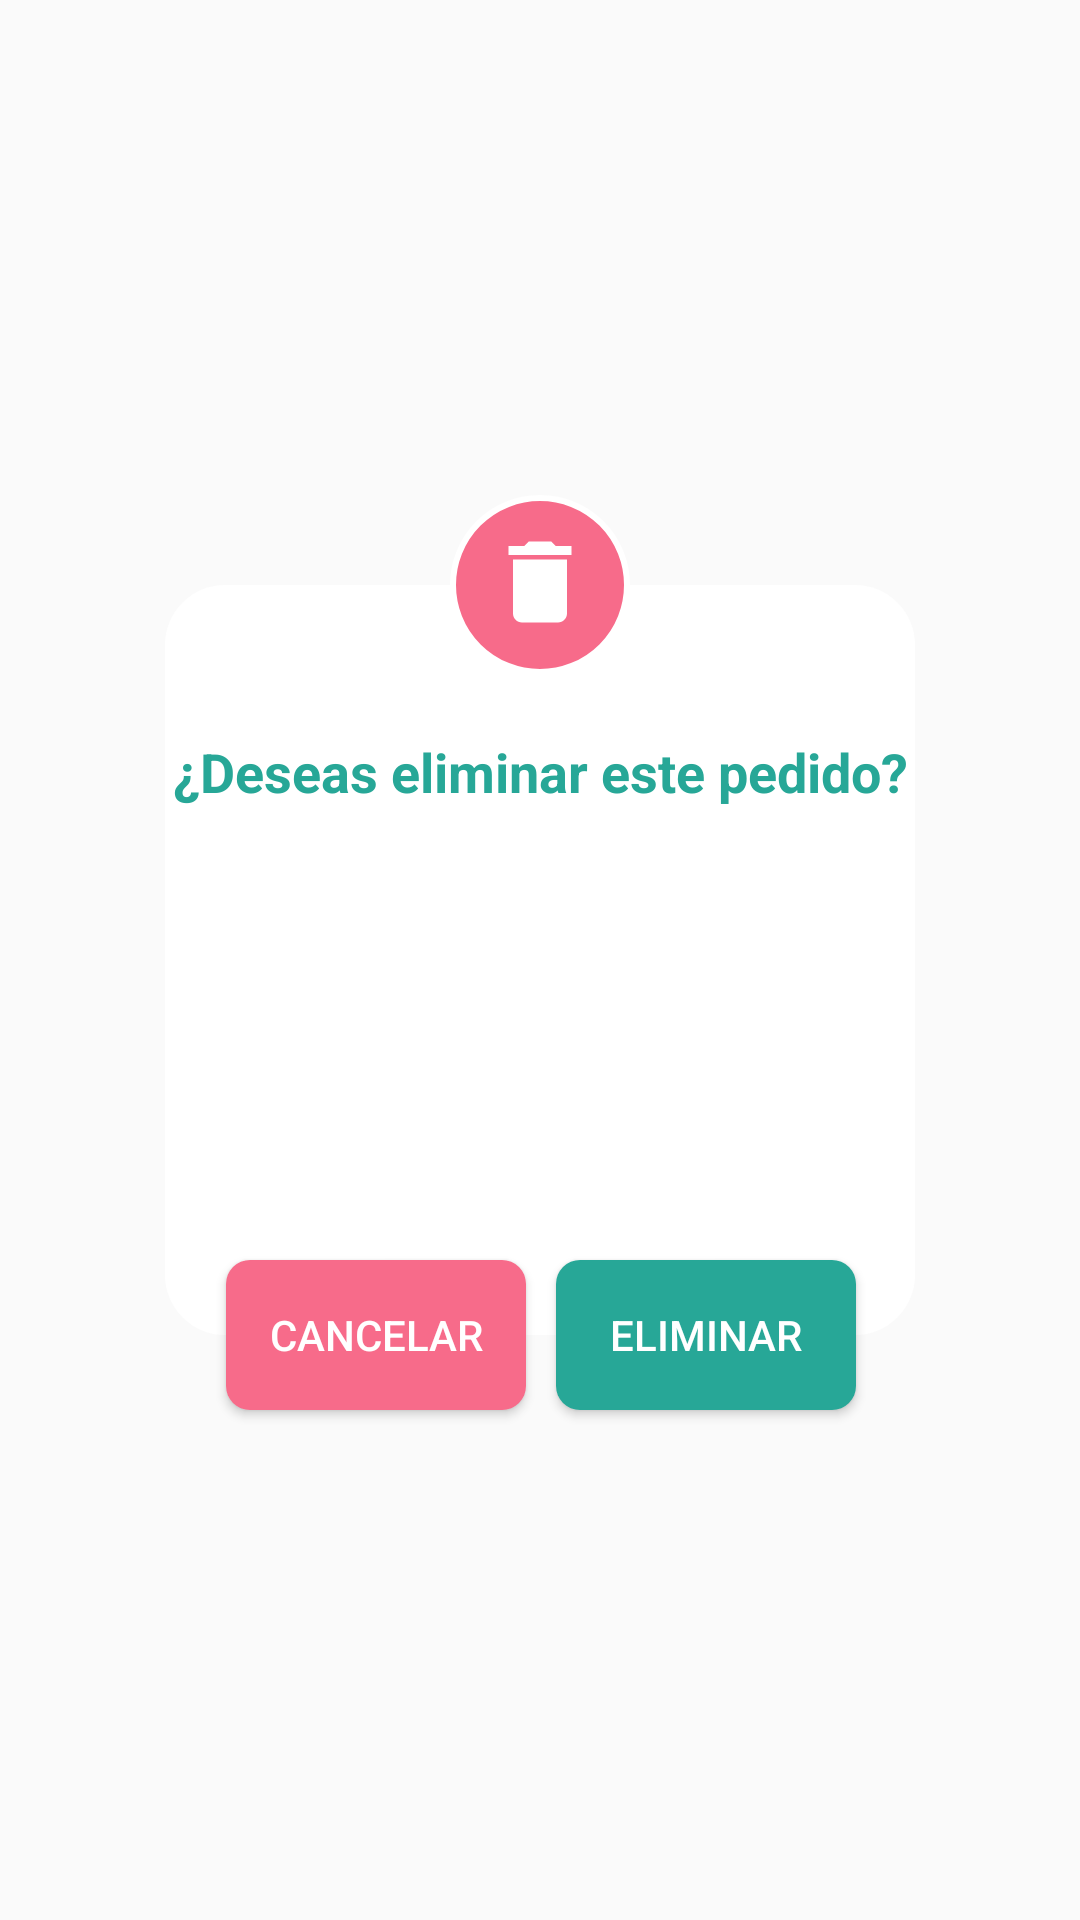

Named icons in this screenshot (1080*1920) and their bounding boxes, (x1, y1, x2, y2):
delete: (456, 501, 624, 669)
